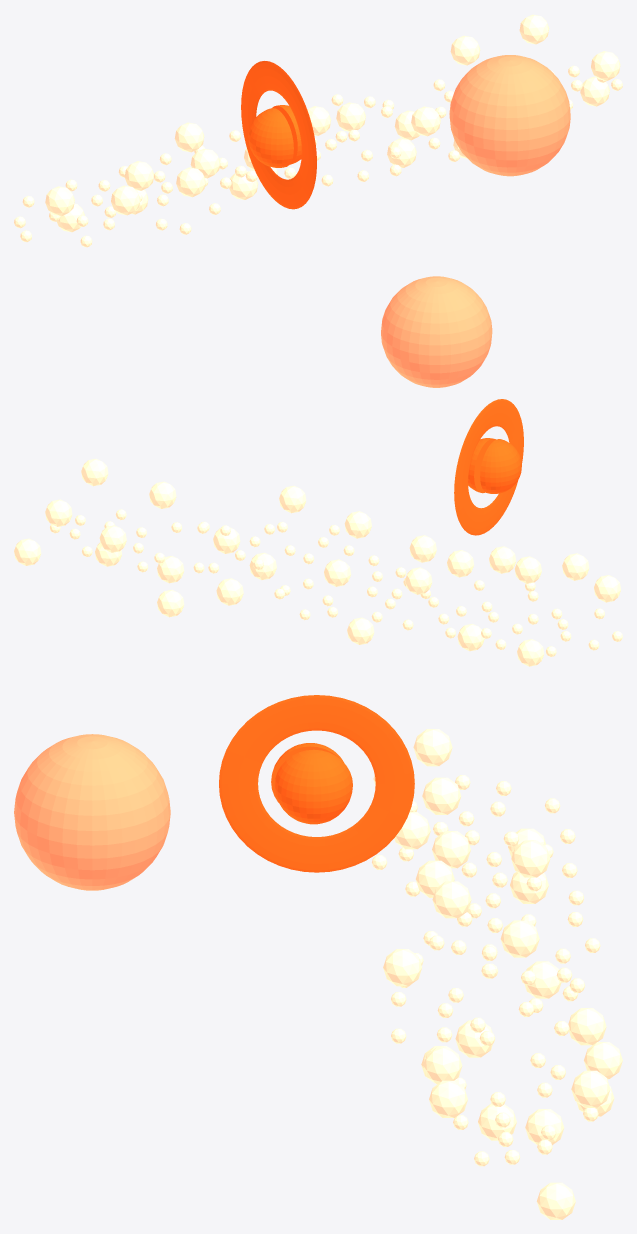
The model's file is background2.gltf.
3 renders of one model, top to bottom at view 1: azimuth 30°, elevation 25°; view 2: azimuth 150°, elevation 25°; view 3: azimuth 270°, elevation 25°, orthographic. The views are drawn at different scales.
Parts seen in each view (by area): view 1: Sphere, Torus.001, Sphere.001, Icosphere.002, Icosphere.016, Icosphere.076, Icosphere.015, Icosphere.028, Icosphere.011, Icosphere.027, Icosphere.075, Icosphere.018 (+9 smaller); view 2: Sphere, Torus.001, Sphere.001, Sphere.002, Icosphere.010, Icosphere.015, Icosphere.012, Icosphere.027, Icosphere.030, Icosphere.075, Icosphere.020, Icosphere.002 (+13 smaller); view 3: Sphere, Torus.001, Sphere.002, Icosphere.075, Icosphere.002, Icosphere.004, Icosphere.018, Icosphere.030, Icosphere.001, Icosphere.016, Icosphere.028, Icosphere.027 (+11 smaller).
Part boxes in pixels (bbox=[...]): Sphere: bbox=[449, 55, 570, 176]; Torus.001: bbox=[241, 61, 316, 209]; Sphere.001: bbox=[248, 108, 293, 167]; Icosphere.002: bbox=[411, 106, 440, 136]; Icosphere.016: bbox=[45, 186, 74, 216]; Icosphere.076: bbox=[176, 167, 205, 197]; Icosphere.015: bbox=[111, 185, 140, 215]; Icosphere.028: bbox=[591, 51, 620, 80]; Icosphere.011: bbox=[450, 35, 480, 65]; Icosphere.027: bbox=[519, 14, 549, 44]; Icosphere.075: bbox=[174, 122, 204, 152]; Icosphere.018: bbox=[124, 161, 154, 190]; Sphere: bbox=[381, 276, 492, 387]; Torus.001: bbox=[454, 399, 523, 535]; Sphere.001: bbox=[480, 439, 521, 493]; Sphere.002: bbox=[468, 438, 495, 493]; Icosphere.010: bbox=[216, 578, 243, 605]; Icosphere.015: bbox=[562, 553, 589, 580]; Icosphere.012: bbox=[149, 481, 176, 508]; Icosphere.027: bbox=[45, 499, 72, 526]; Icosphere.030: bbox=[14, 538, 41, 565]; Icosphere.075: bbox=[405, 567, 432, 594]; Icosphere.020: bbox=[347, 617, 374, 644]; Icosphere.002: bbox=[279, 485, 306, 513]; Sphere: bbox=[14, 734, 170, 890]; Torus.001: bbox=[219, 695, 414, 872]; Sphere.002: bbox=[274, 749, 352, 824]; Icosphere.075: bbox=[511, 840, 550, 877]; Icosphere.002: bbox=[383, 949, 422, 986]; Icosphere.004: bbox=[500, 920, 539, 957]; Icosphere.018: bbox=[422, 777, 461, 814]; Icosphere.030: bbox=[536, 1182, 575, 1219]; Icosphere.001: bbox=[432, 881, 471, 918]; Icosphere.016: bbox=[413, 729, 452, 766]; Icosphere.028: bbox=[429, 1080, 467, 1117]; Icosphere.027: bbox=[571, 1070, 610, 1107].
Bounding box in the file's own units: 237 × 88.7 × 155.
